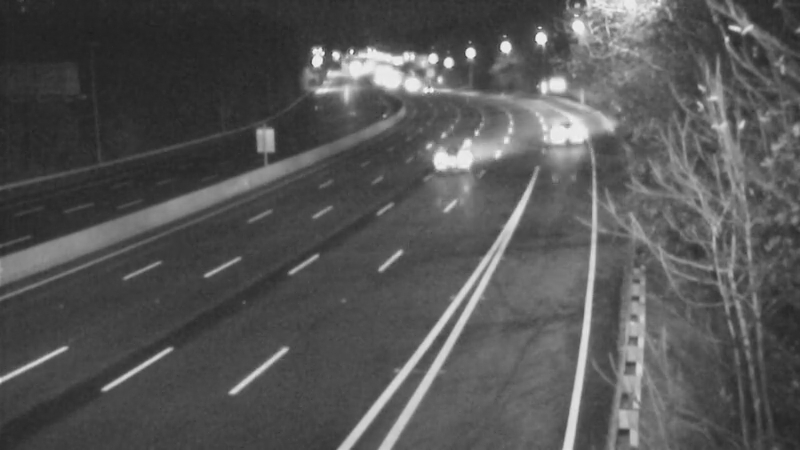vehicle: (411, 115, 491, 195), (401, 64, 451, 114), (541, 114, 591, 164)
